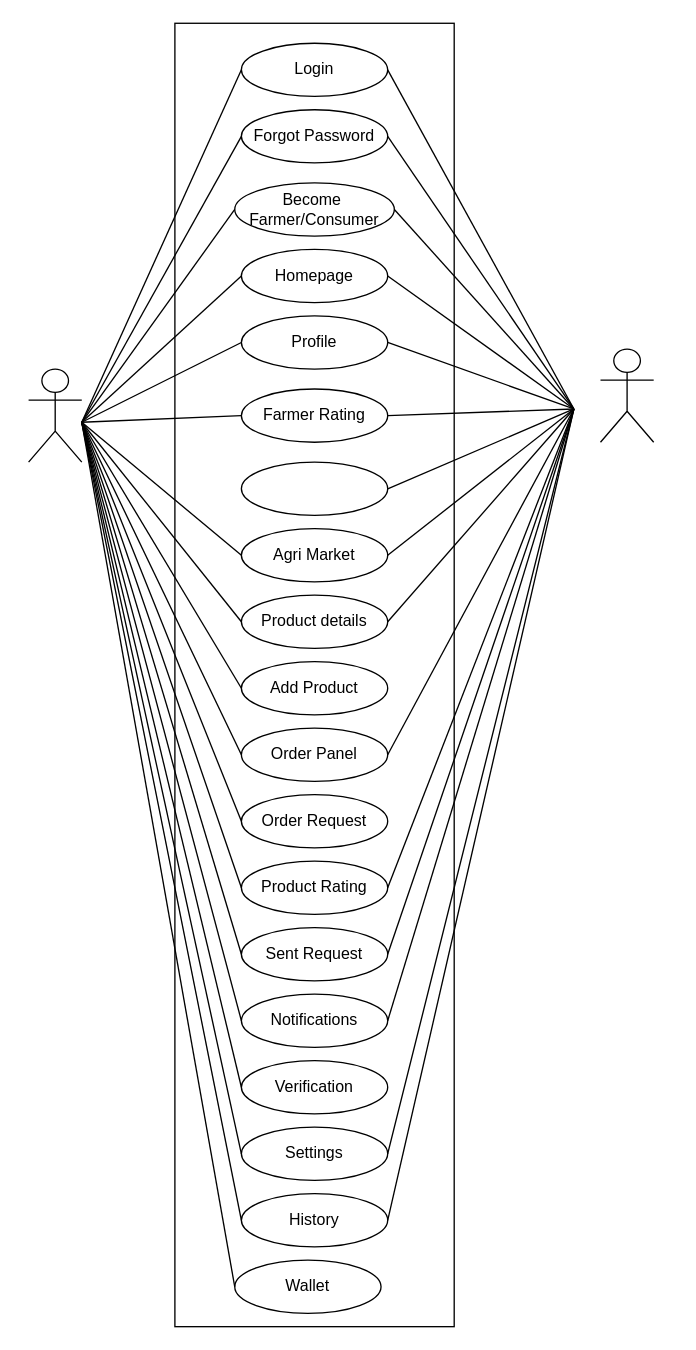
Some shapes in this 696 by 1350 pixel diagram are drawn without their labels. The centre of each missing label's shape, as x and y in pixels:
"Consumer" goes at point 626,395.
"Farmer" goes at point 54,415.
"Switch to Farmer" goes at point 314,488.
